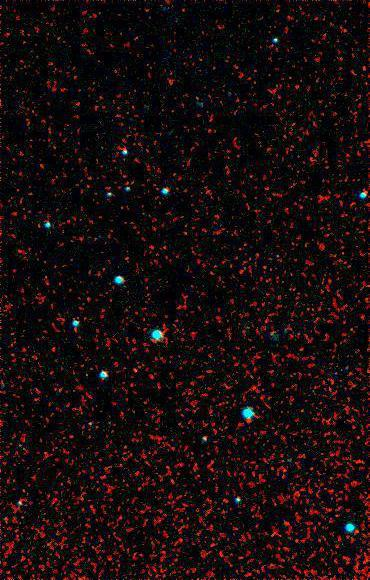star: (154, 69, 184, 99)
